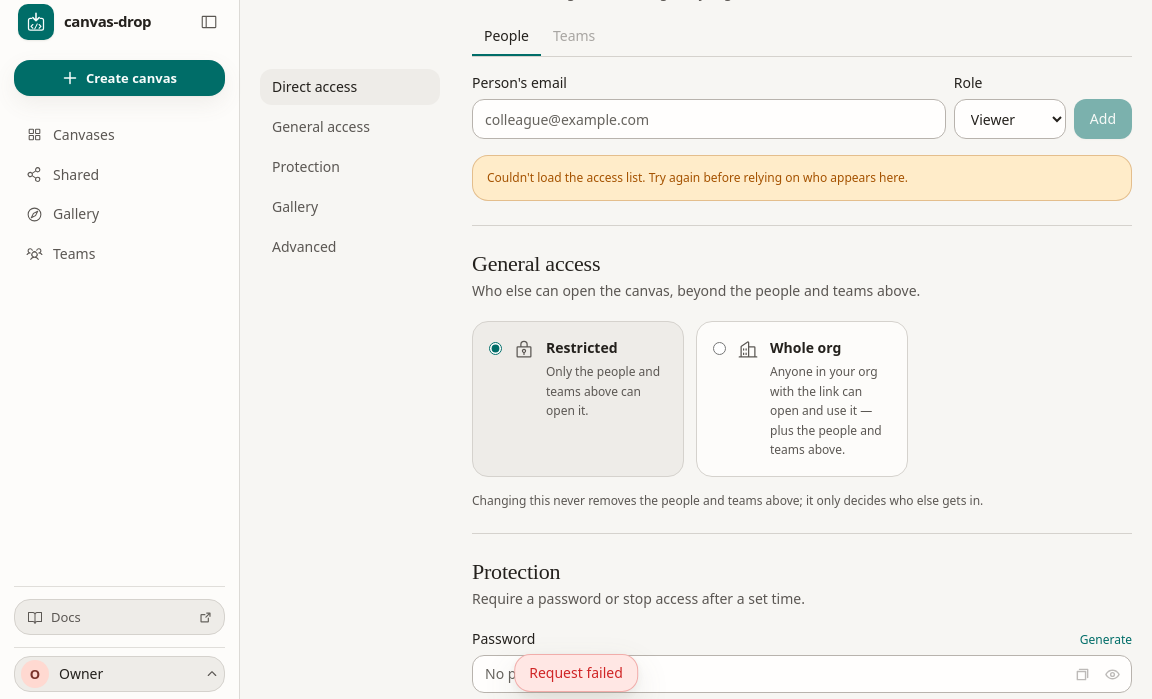
Test: share route › surfaces the CDN warning when an access change (save) returns one
(page scrolled)
Click the radio button labelled "Whole org". click: click(720, 348)
box: left=713, top=342, right=726, bottom=355
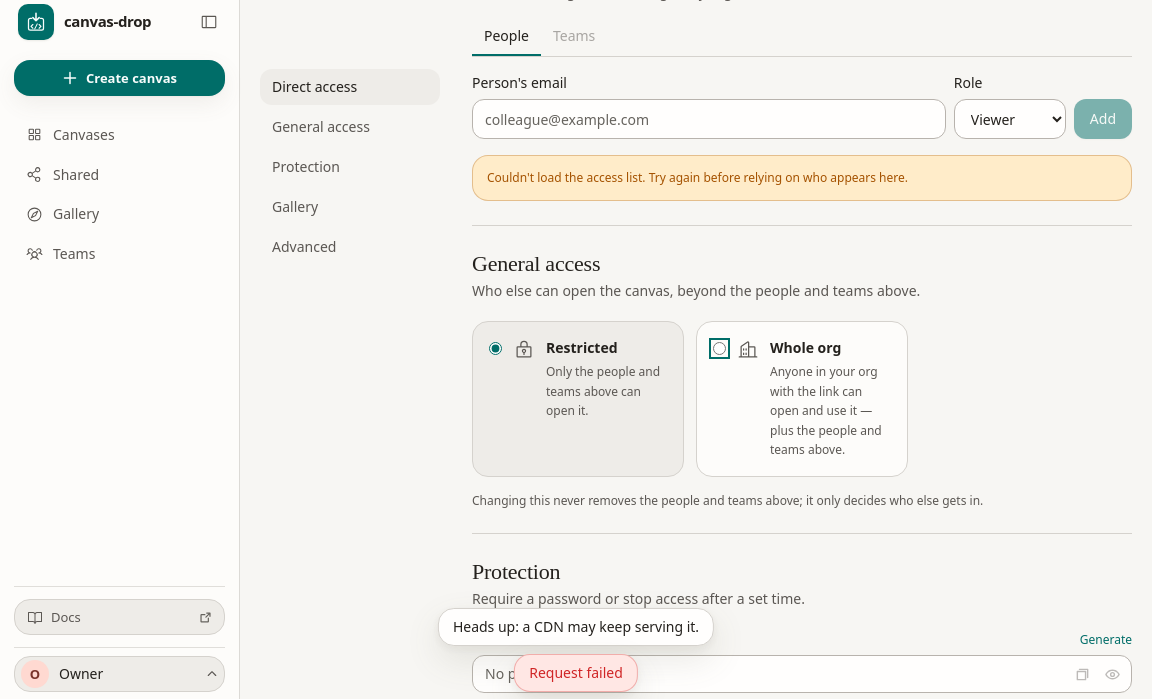
Expected: the text "Heads up: a CDN may keep serving it." is shown, left=438, top=608, right=714, bottom=646
